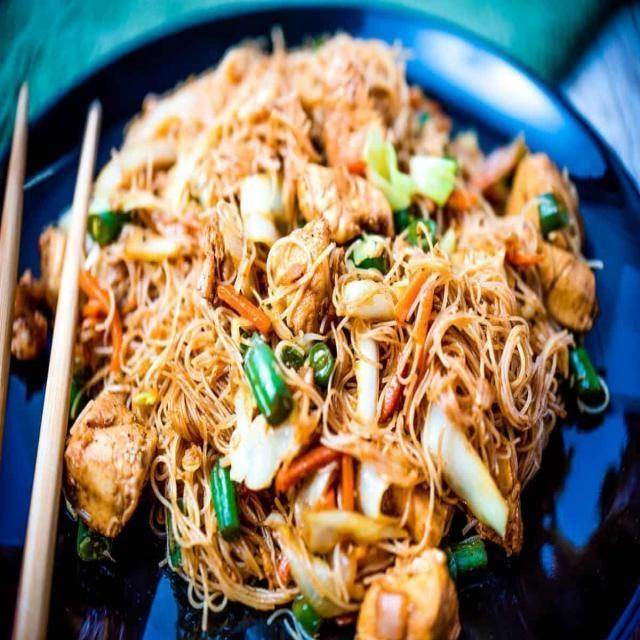pancit bihon: (63, 42, 580, 603)
